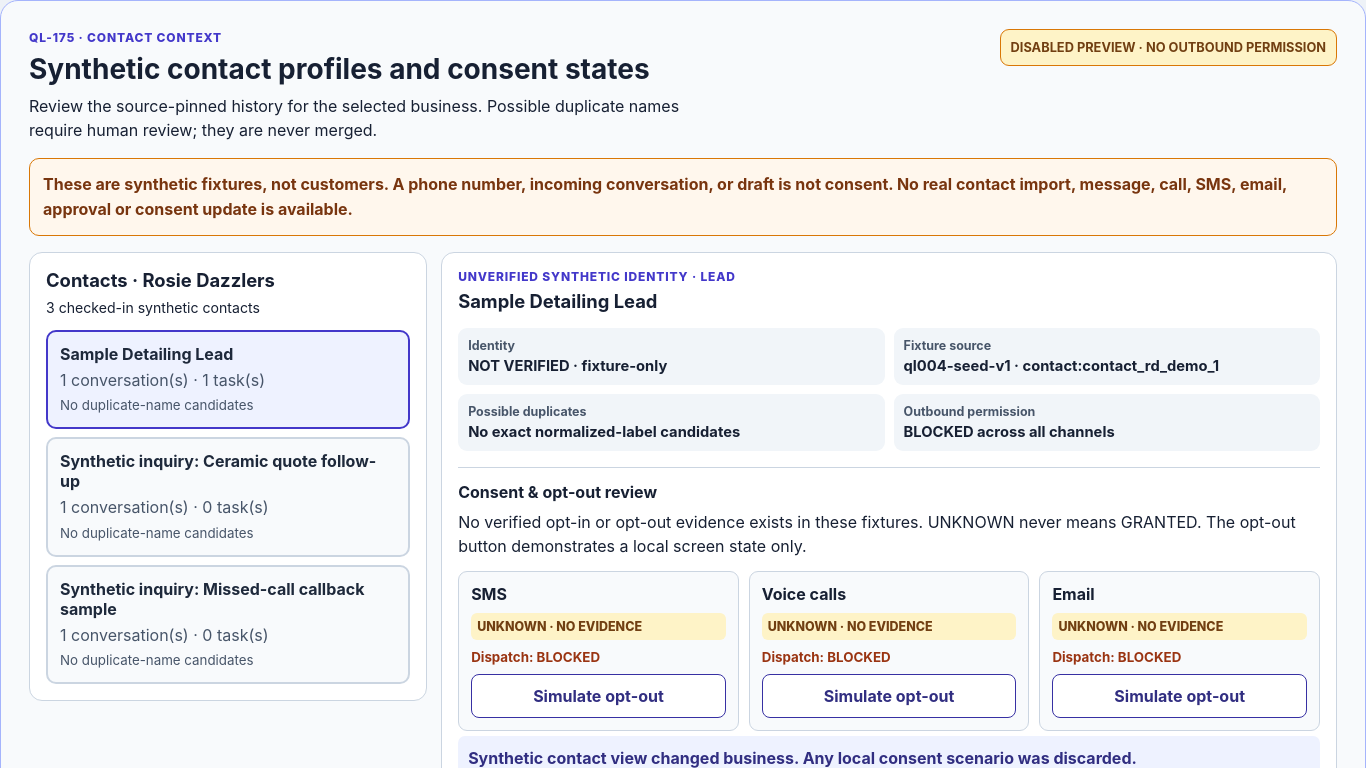
Test case: QL-175 accessible disabled-only contact preview › stages opt-out and reset without a network request, storage write, or actual consent update
Click the 1st button "Simulate opt-out": click(598, 696) [471,674,726,718]
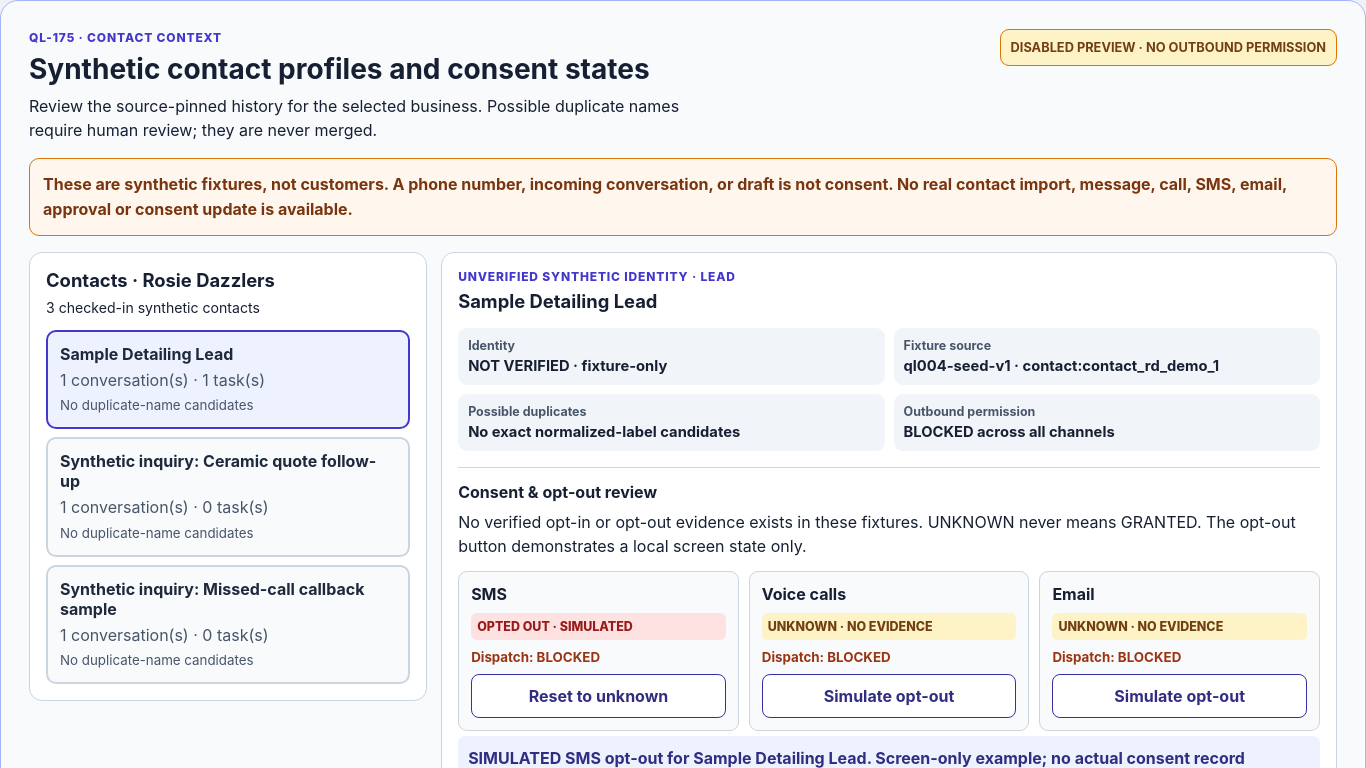
Result: the text "OPTED OUT · SIMULATED" is shown at [471,613,726,640]
Click the button "Reset to unknown": click(598, 696) [471,674,726,718]
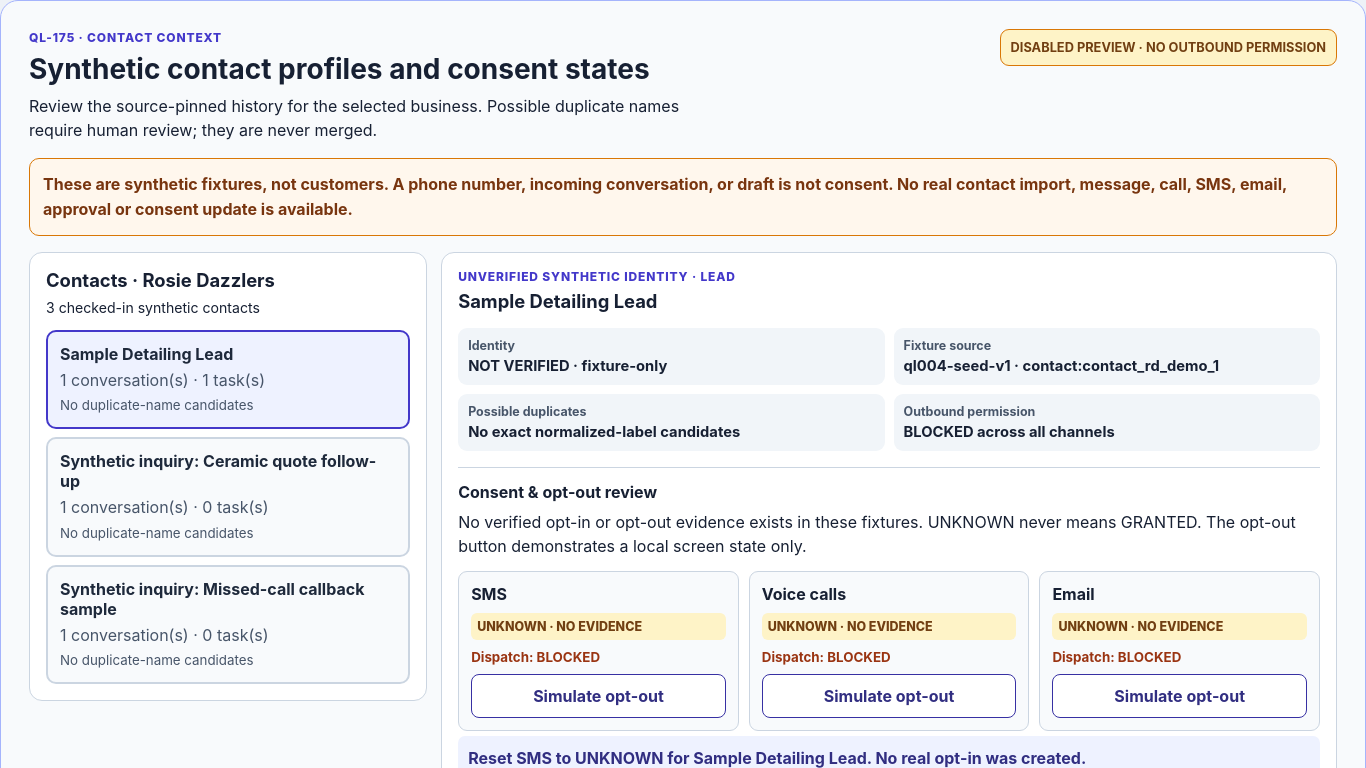
Result: the text "OPTED OUT · SIMULATED" is gone
Result: the text "Reset SMS to UNKNOWN" is shown at [468,748,1086,767]
